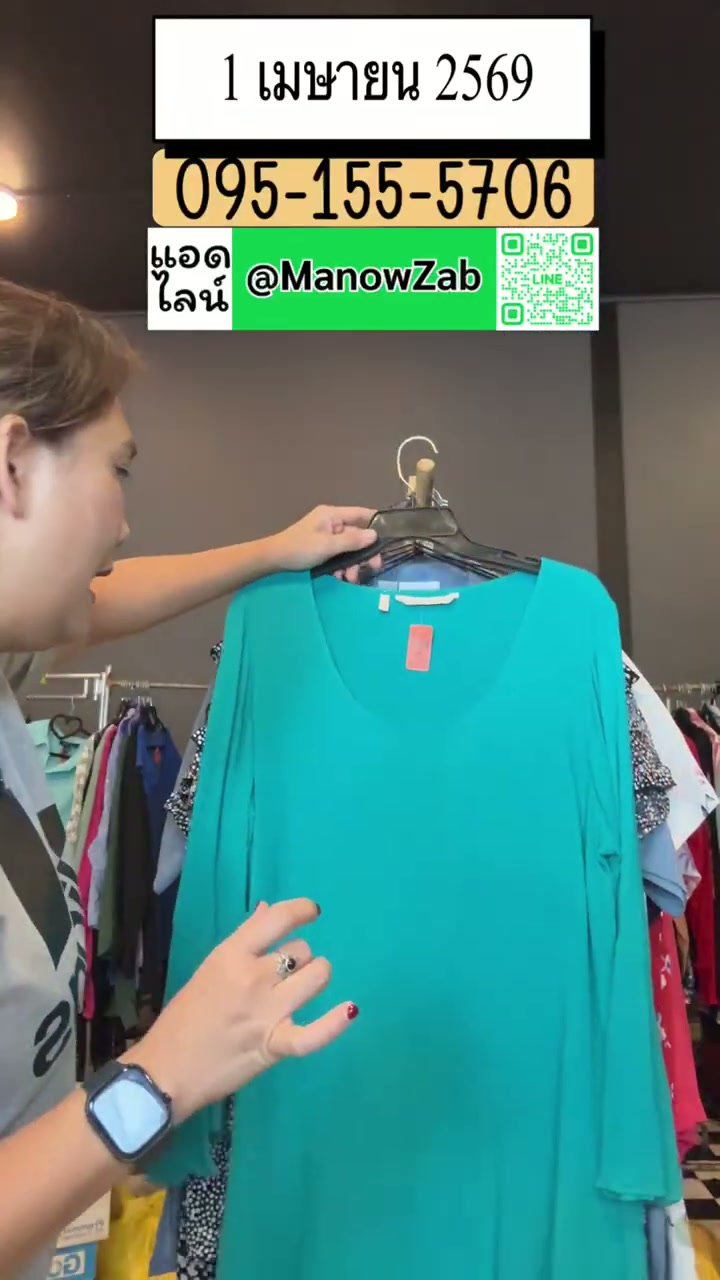display_shirt: (168, 558, 679, 1279)
